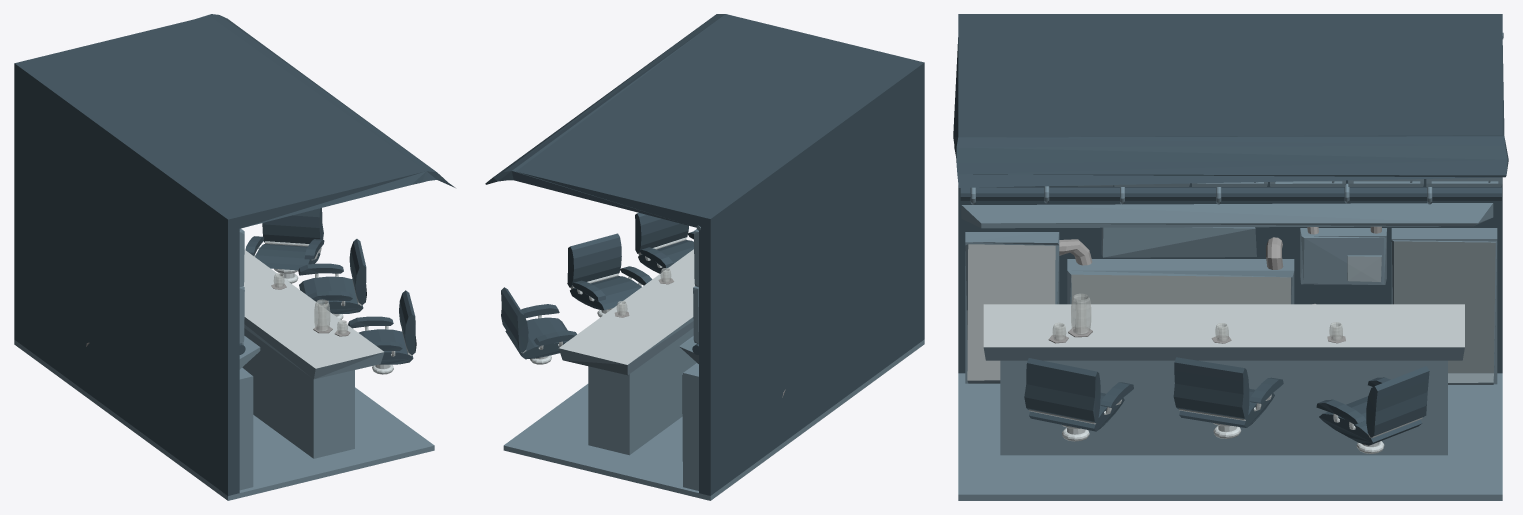
Rendered from SpaceBar.glb.
3 renders of one model, left to right at view 1: azimuth 30°, elevation 25°; view 2: azimuth 150°, elevation 25°; view 3: azimuth 270°, elevation 25°, orthographic. The views are drawn at different scales.
Parts seen in each view (by area): view 1: group1130819713, group1897093413, group780848787, group712791709, group1060906866, group1972172014, group1114516919; view 2: group1130819713, group780848787, group1897093413, group712791709, group1068142959, group1972172014; view 3: group1130819713, group1068142959, group1060906866, group325673256, group1269446095, group712791709, group780848787, group1897093413, group778417009, group745253516, group1683546353, group1972172014 (+2 smaller).
Boxes of the visible parts, x1,y1,x2,y2 form: group1130819713: [14, 14, 455, 500]; group1897093413: [245, 208, 324, 283]; group780848787: [298, 239, 366, 319]; group712791709: [348, 290, 416, 374]; group1060906866: [239, 367, 253, 490]; group1972172014: [239, 229, 244, 343]; group1114516919: [314, 299, 330, 331]; group1130819713: [485, 14, 924, 500]; group780848787: [567, 233, 652, 317]; group1897093413: [501, 287, 576, 364]; group712791709: [635, 213, 693, 273]; group1068142959: [682, 363, 698, 490]; group1972172014: [693, 229, 698, 343]; group1130819713: [953, 14, 1508, 500]; group1068142959: [1391, 228, 1497, 384]; group1060906866: [965, 232, 1059, 383]; group325673256: [960, 187, 1501, 200]; group1269446095: [1071, 274, 1290, 304]; group712791709: [1024, 358, 1133, 441]; group780848787: [1173, 357, 1283, 438]; group1897093413: [1316, 366, 1429, 453]; group778417009: [1300, 228, 1387, 284]; group745253516: [1101, 227, 1256, 257]; group1683546353: [1067, 259, 1294, 304]; group1972172014: [1032, 177, 1502, 186].
Size of the model in its own units: 1.67 by 1.75 by 2.42.
